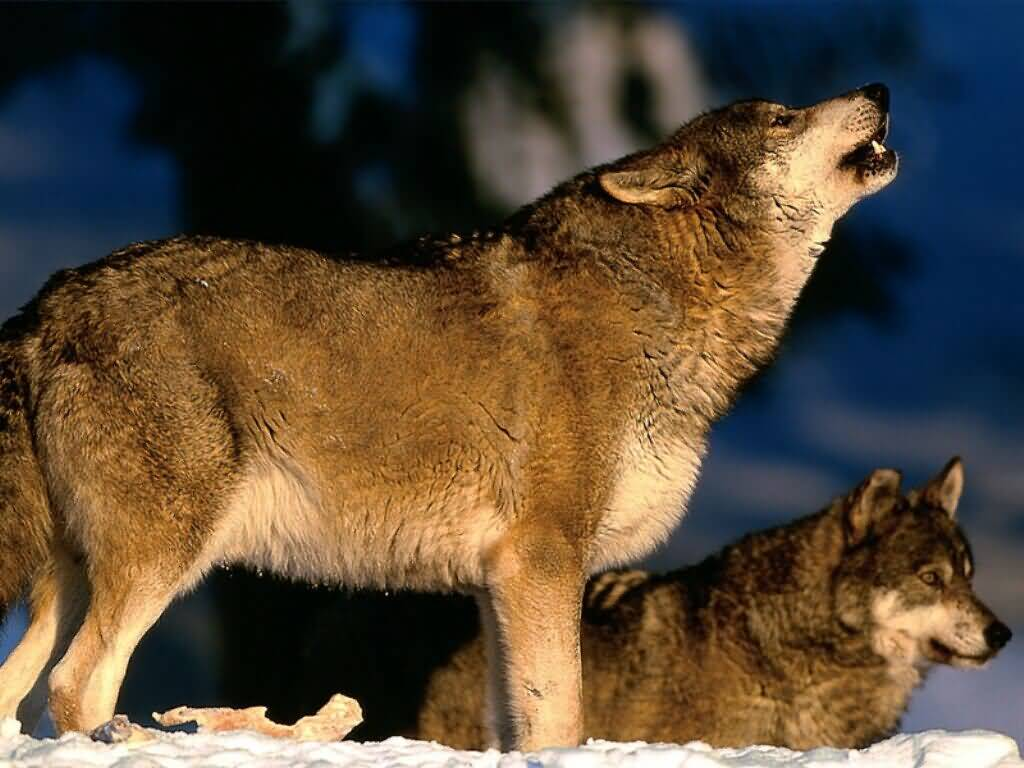wolf: (1, 66, 923, 768), (376, 447, 1018, 768)
